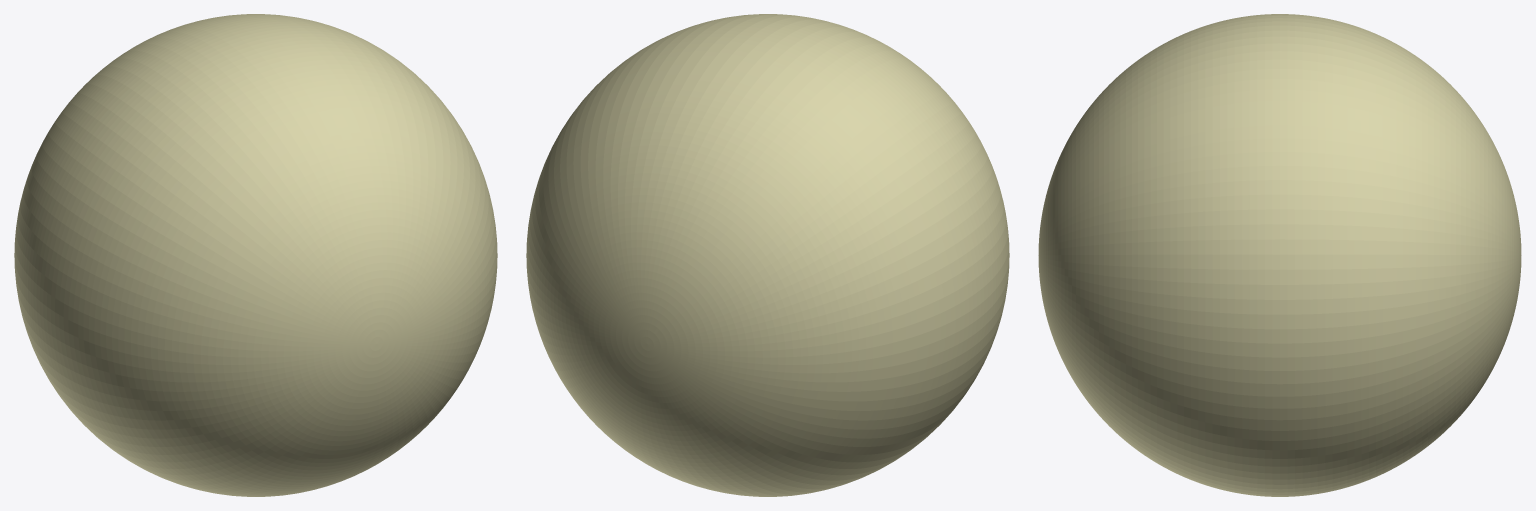
3 views of the same model, side by side, from view 1: azimuth 30°, elevation 25°; view 2: azimuth 150°, elevation 25°; view 3: azimuth 270°, elevation 25° (orthographic).
Visible parts, largest first — view 1: world; view 2: world; view 3: world.
Part boxes in pixels (x1,y1,x2,y2): world: [14, 14, 497, 496]; world: [526, 14, 1009, 496]; world: [1038, 14, 1521, 496].
Size of the model in its own units: 34 by 34 by 34.
